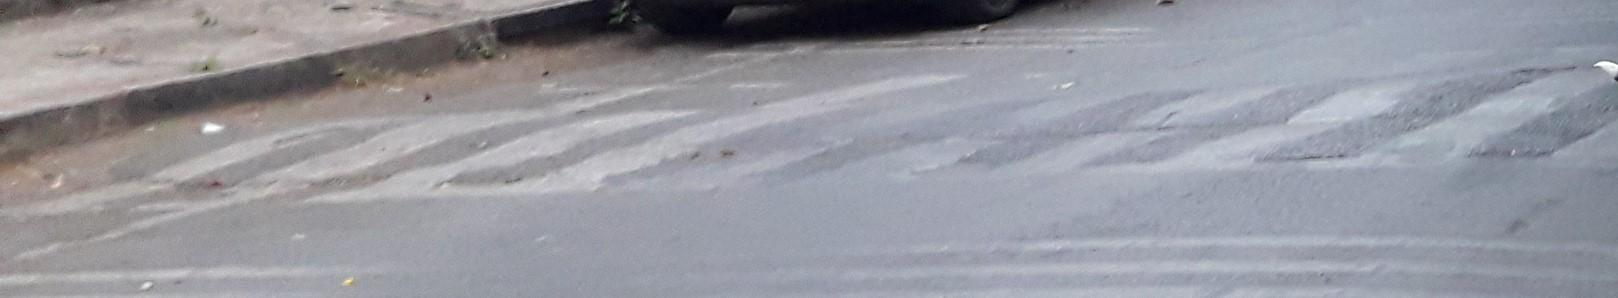speed-bump: (107, 53, 1618, 196)
